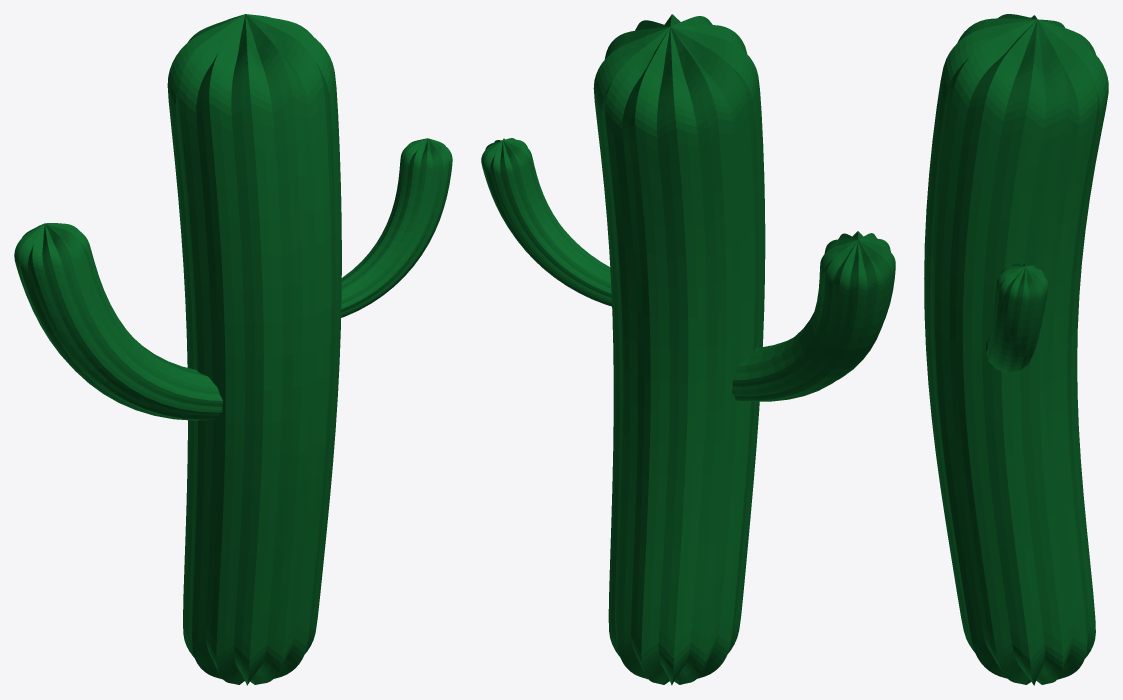
Rendered from Nature_cactus1.fbx.
3 views of the same model, side by side, from view 1: azimuth 30°, elevation 25°; view 2: azimuth 150°, elevation 25°; view 3: azimuth 270°, elevation 25° (orthographic).
Parts seen in each view (by area): view 1: cactus1; view 2: cactus1; view 3: cactus1.
Part boxes in pixels (x1,y1,x2,y2): cactus1: (14,14,452,685); cactus1: (481,14,895,685); cactus1: (924,14,1108,685).
Size of the model in its own units: 2.2 by 3.32 by 0.841.
